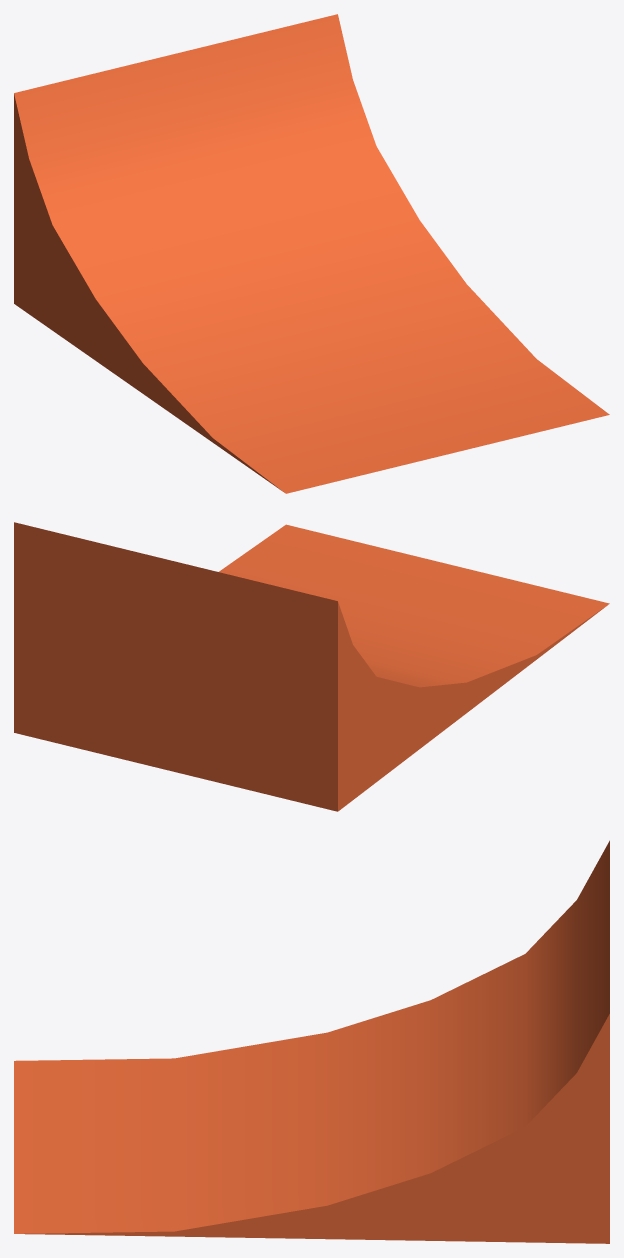
Rendered from ramp2fbx.fbx.
3 renders of one model, top to bottom at view 1: azimuth 30°, elevation 25°; view 2: azimuth 150°, elevation 25°; view 3: azimuth 270°, elevation 25°, orthographic. The views are drawn at different scales.
Parts seen in each view (by area): view 1: pPlane1; view 2: pPlane1; view 3: pPlane1.
Boxes of the visible parts, <box> form: pPlane1: <box>14,14,609,493</box>; pPlane1: <box>14,522,609,811</box>; pPlane1: <box>14,840,609,1243</box>.
Size of the model in its own units: 3.25 by 2.02 by 4.73.
